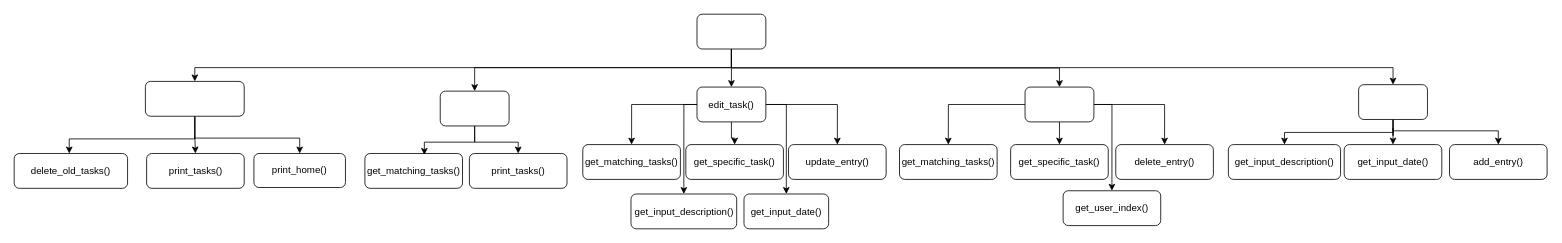
This 1562x243 diagram has some shape labels left out. Here are the shapes that lost their labels. From the top down, the box of each, then its label:
(696, 13, 766, 49): main()
(145, 81, 244, 116): show_home ()
(439, 90, 509, 126): show_task()
(1024, 86, 1094, 122): delete_t ask()
(1358, 84, 1427, 119): add_task()
